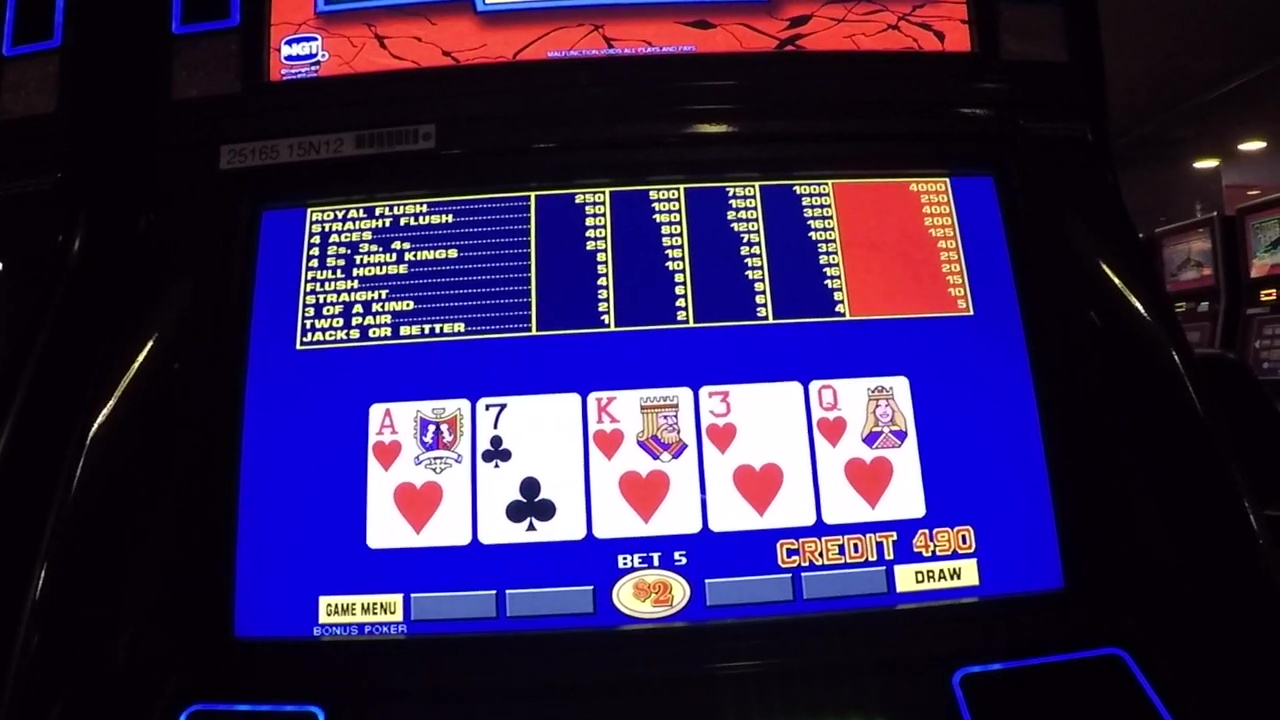C7: (480, 397, 582, 470)
H3: (704, 384, 803, 457)
HA: (369, 405, 469, 473)
HK: (592, 394, 692, 469)
HQ: (816, 381, 906, 453)
